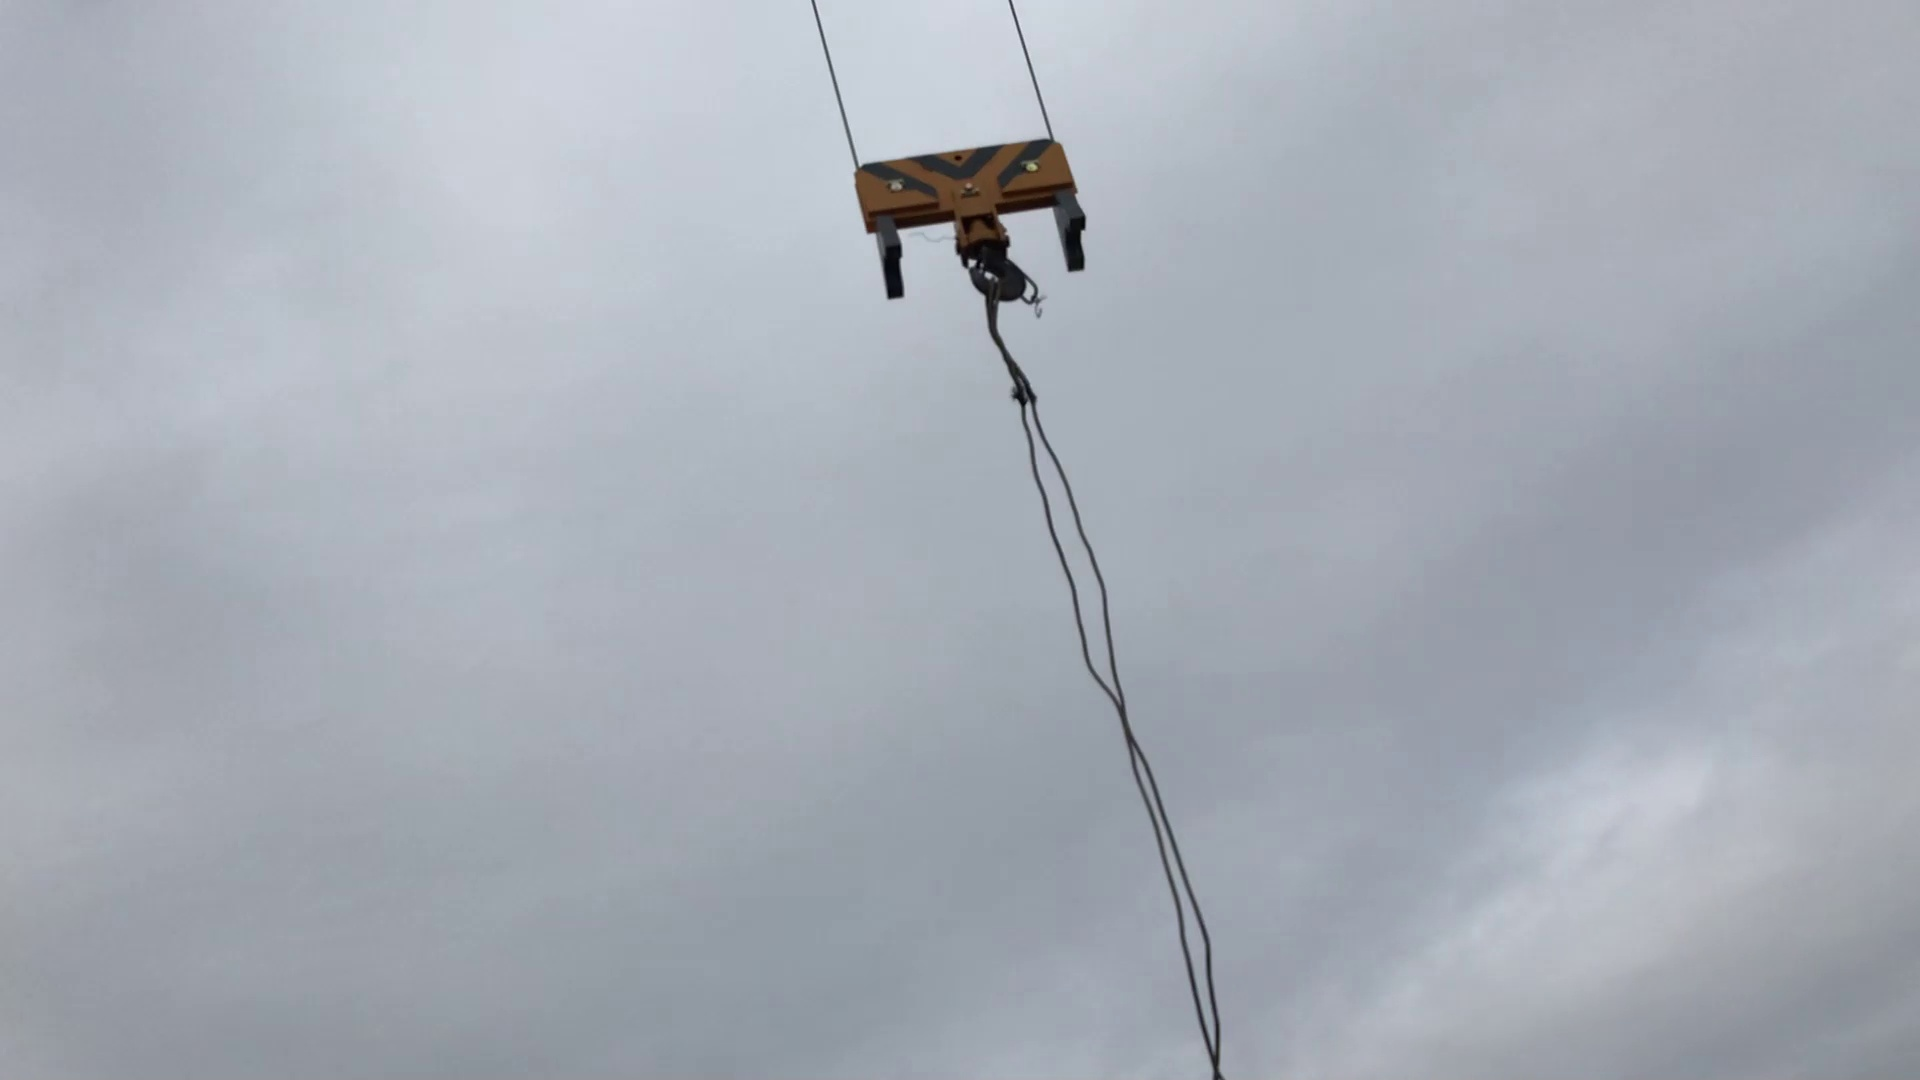hook: (823, 108, 1200, 343)
